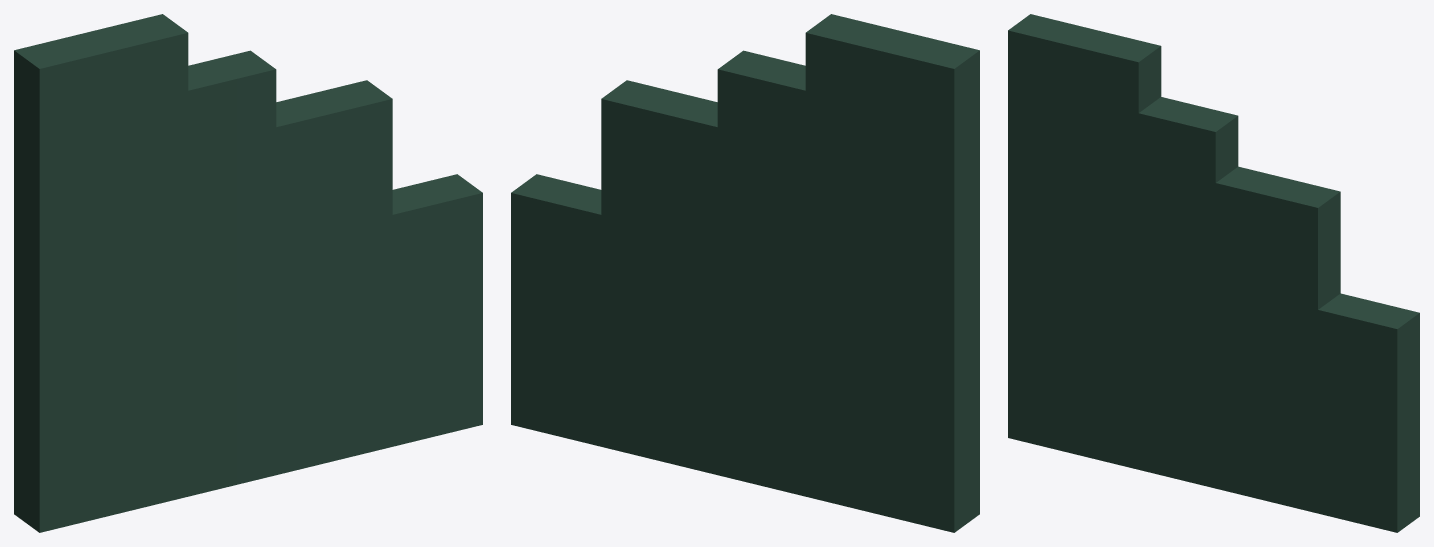
The model's file is SM_Wall_Broken_03.fbx.
3 renders of one model, left to right at view 1: azimuth 30°, elevation 25°; view 2: azimuth 150°, elevation 25°; view 3: azimuth 330°, elevation 25°, orthographic. The views are drawn at different scales.
Visible parts, largest first — view 1: SM_Wall_Broken_03; view 2: SM_Wall_Broken_03; view 3: SM_Wall_Broken_03.
Boxes of the visible parts, x1=… form: SM_Wall_Broken_03: x1=14, y1=14, x2=482, y2=532; SM_Wall_Broken_03: x1=511, y1=14, x2=979, y2=532; SM_Wall_Broken_03: x1=1008, y1=14, x2=1419, y2=532.
Size of the model in its own units: 500 by 500 by 50.
1 material, 1 textured.
